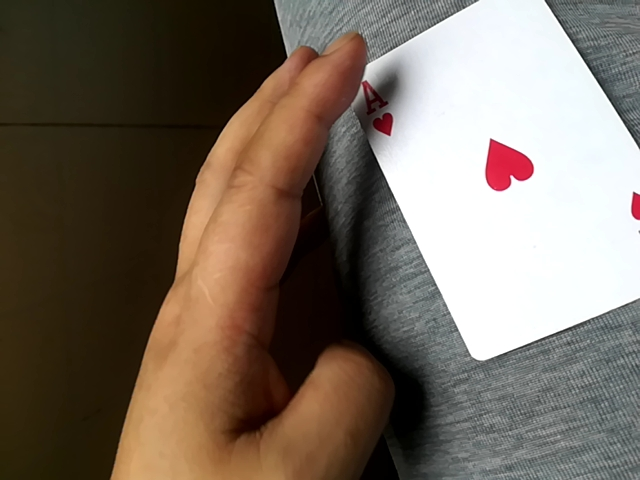hx a: (347, 3, 640, 368)
